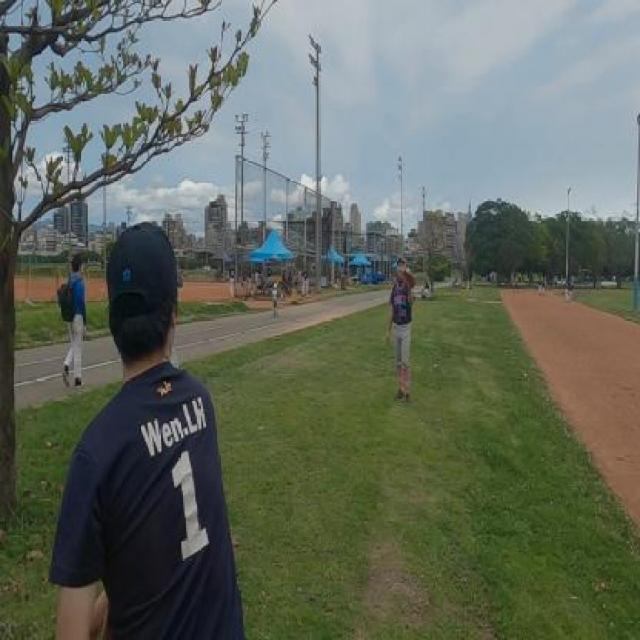baseball: (405, 267, 410, 275)
